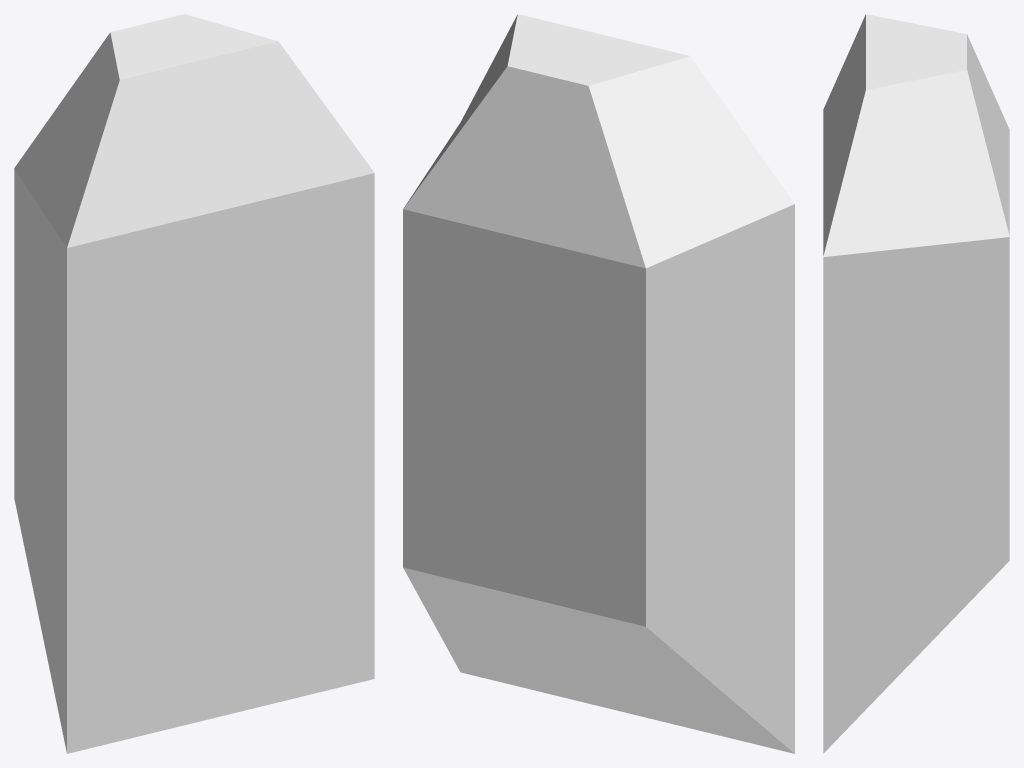
File: head_1.fbx
The picture shows the model from 3 angles, left to right: view 1: azimuth 30°, elevation 25°; view 2: azimuth 150°, elevation 25°; view 3: azimuth 270°, elevation 25°; orthographic projection. The views are drawn at different scales.
Parts seen in each view (by area): view 1: Cube.046; view 2: Cube.046; view 3: Cube.046.
Part boxes in pixels (left/top/right/bottom): Cube.046: left=14, top=14, right=374, bottom=753; Cube.046: left=403, top=14, right=794, bottom=753; Cube.046: left=823, top=14, right=1009, bottom=753.
Bounding box in the file's own units: 7.42 × 14.75 × 3.97.
